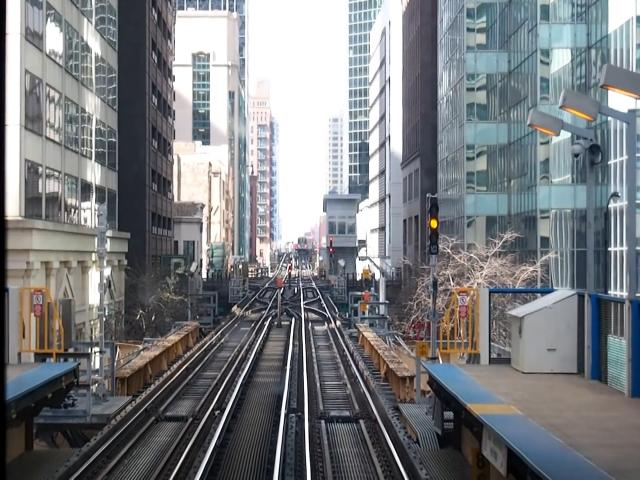signal light: (424, 193, 443, 260)
